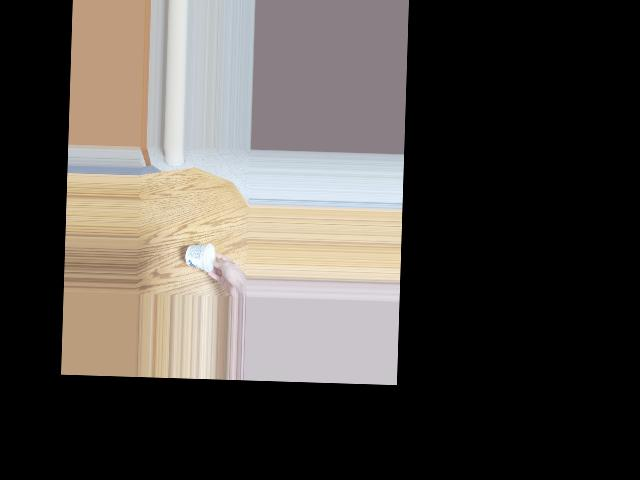cotage: (187, 248, 218, 271)
